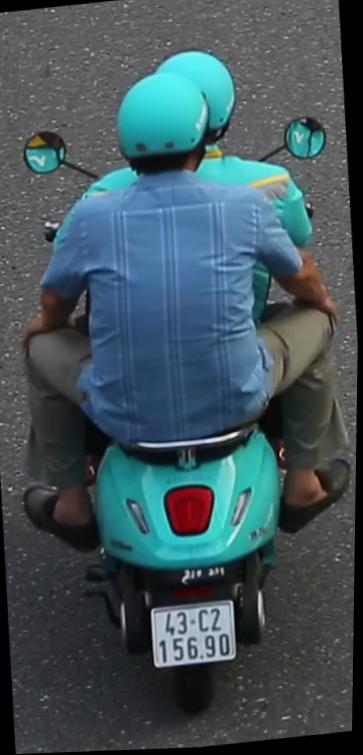LP: (148, 594, 244, 680)
helmet: (105, 70, 210, 182), (149, 40, 242, 130)
